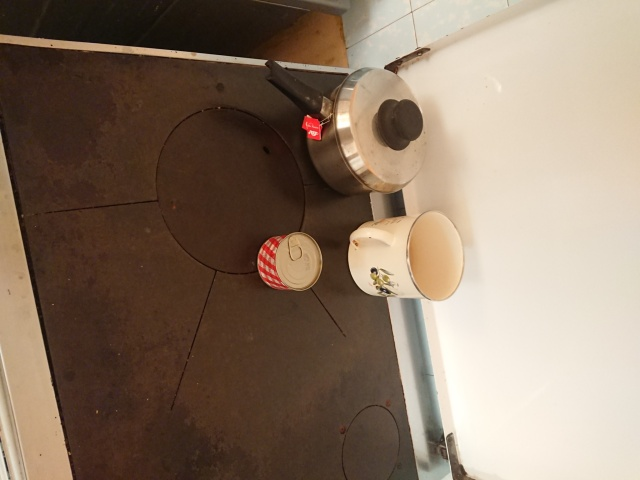Podravka Luncheon Meat 150g: (254, 232, 324, 294)
